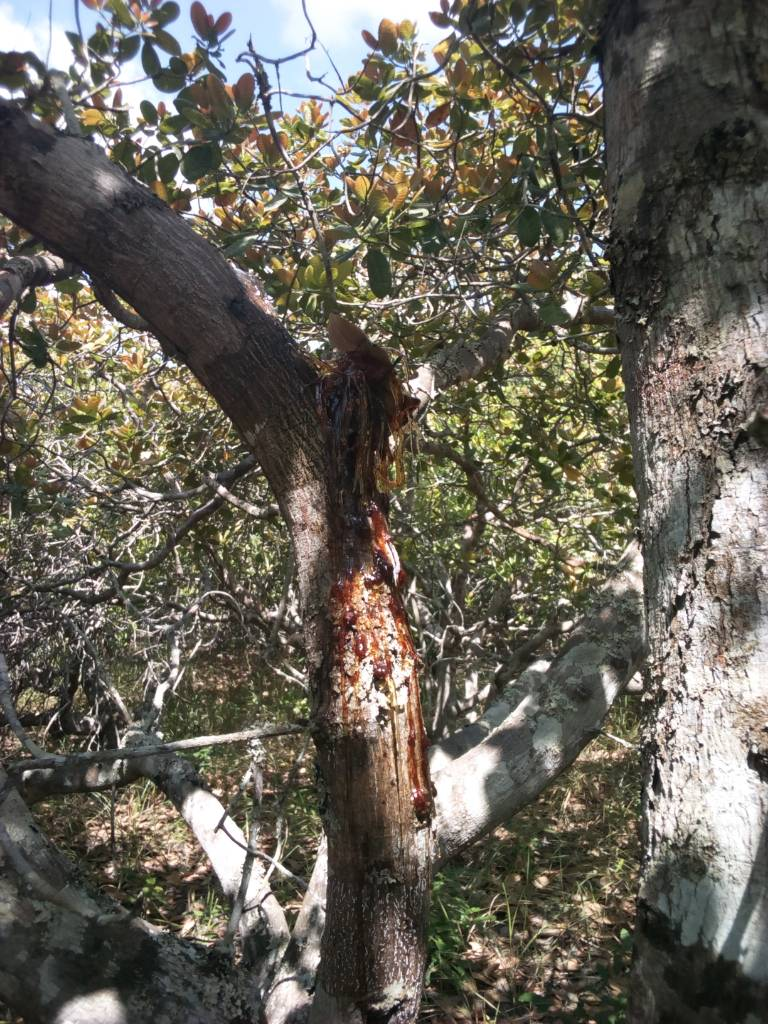Gommose: (316, 338, 433, 828)
